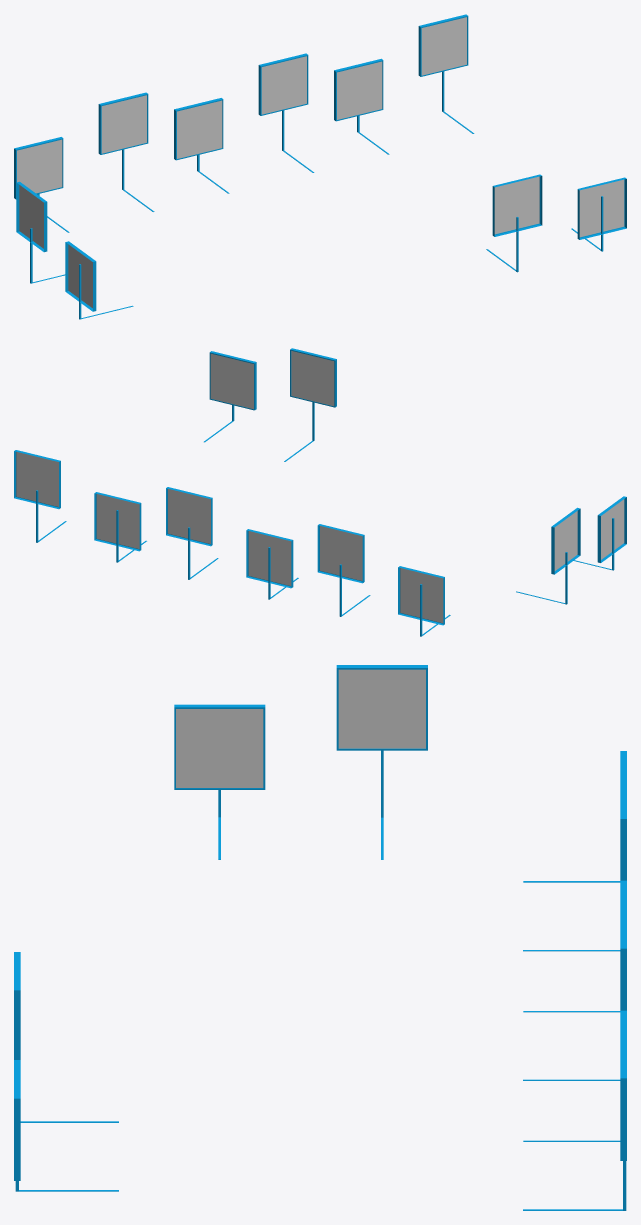
File: NewSpawnPoints.fbx
The picture shows the model from 3 angles, top to bottom: view 1: azimuth 30°, elevation 25°; view 2: azimuth 150°, elevation 25°; view 3: azimuth 270°, elevation 25°; orthographic projection. The views are drawn at different scales.
Parts seen in each view (by area): view 1: FX001, Glow, ImagHolder004, ImagHolder, ImagHolder006, ImagHolder005; view 2: Glow, FX001, ImagHolder009, ImagHolder011, ImagHolder007, ImagHolder008, ImagHolder010, ImagHolder012, ImagHolder006, ImagHolder005; view 3: FX001, Glow.
Boxes of the visible parts, x1,y1,x2,y2 form: FX001: [17, 17, 466, 193]; Glow: [14, 14, 626, 319]; ImagHolder004: [494, 176, 539, 234]; ImagHolder: [579, 179, 624, 237]; ImagHolder006: [19, 185, 43, 248]; ImagHolder005: [68, 244, 92, 308]; Glow: [14, 348, 626, 636]; FX001: [210, 351, 334, 408]; ImagHolder009: [248, 531, 291, 585]; ImagHolder011: [96, 494, 139, 548]; ImagHolder007: [400, 568, 443, 622]; ImagHolder008: [320, 526, 362, 580]; ImagHolder010: [168, 489, 210, 543]; ImagHolder012: [16, 452, 58, 506]; ImagHolder006: [554, 511, 577, 570]; ImagHolder005: [601, 499, 624, 559]; FX001: [176, 669, 425, 787]; Glow: [14, 665, 626, 1210].
Size of the model in its own units: 24.15 by 4.12 by 15.14.
